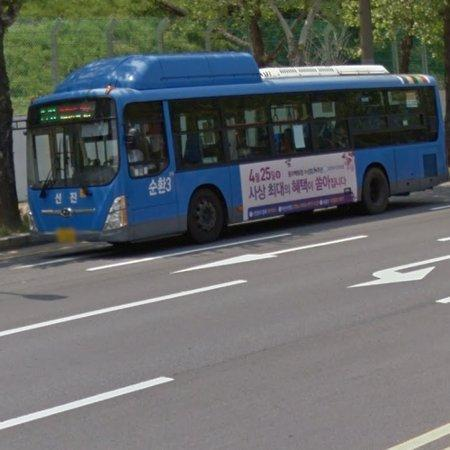buses: (27, 53, 447, 243)
